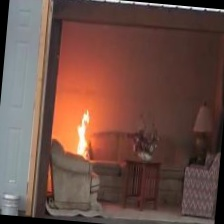fire: (62, 96, 109, 170)
